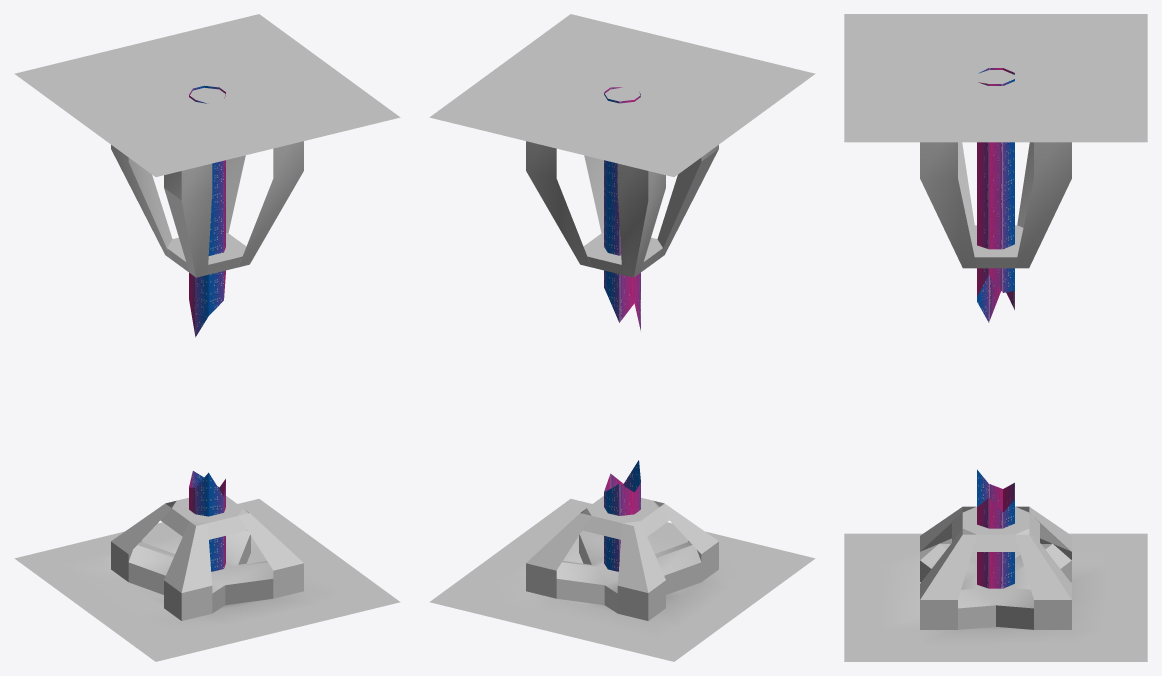
File: cbhangd2.FBX
3 views of the same model, side by side, from view 1: azimuth 30°, elevation 25°; view 2: azimuth 150°, elevation 25°; view 3: azimuth 270°, elevation 25° (orthographic). The views are drawn at different scales.
Visible parts, largest first — view 1: tower5, terrain, nodule1, tower3, tower, glaSS1__2, tower2; view 2: tower5, terrain, nodule1, tower3, tower, glaSS1__2, tower2; view 3: tower5, terrain, glaSS1__2, nodule1, tower, tower3, tower2, tower4.
Part boxes in pixels (box(x1,y1,x2,y2)): tower5: box(14, 14, 400, 176); terrain: box(14, 499, 400, 661); nodule1: box(128, 233, 273, 613); tower3: box(111, 141, 303, 277); tower: box(111, 500, 303, 620); glaSS1__2: box(189, 85, 225, 571); tower2: box(128, 155, 245, 252); tower5: box(429, 14, 815, 176); terrain: box(429, 499, 815, 661); nodule1: box(556, 233, 701, 613); tower3: box(526, 141, 718, 277); tower: box(526, 500, 718, 620); glaSS1__2: box(604, 87, 640, 571); tower2: box(584, 155, 701, 252); tower5: box(844, 14, 1147, 142); terrain: box(844, 533, 1147, 661); glaSS1__2: box(977, 68, 1014, 588); nodule1: box(920, 225, 1071, 629); tower: box(920, 506, 1071, 629); tower3: box(920, 142, 1071, 268); tower2: box(958, 142, 1033, 227); tower4: box(920, 513, 1071, 559).
Bounding box in the file's own units: 64 × 124 × 64.
